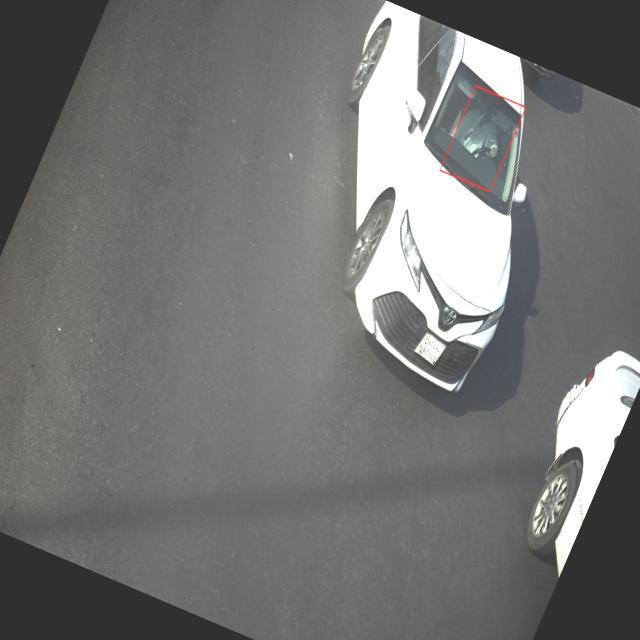windshield: (419, 58, 531, 218)
